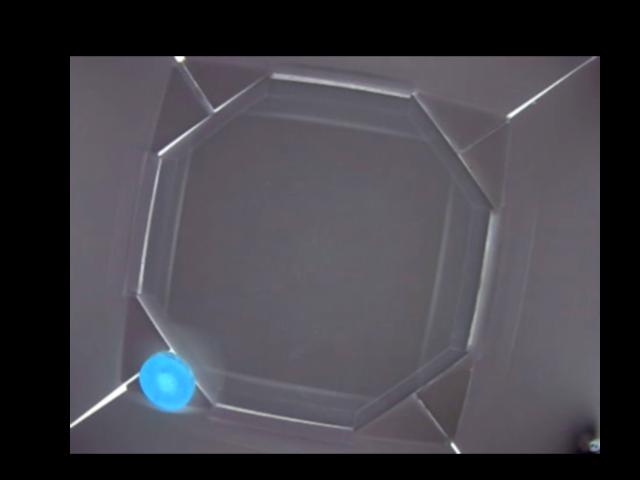Carrot: (137, 351, 195, 410)
